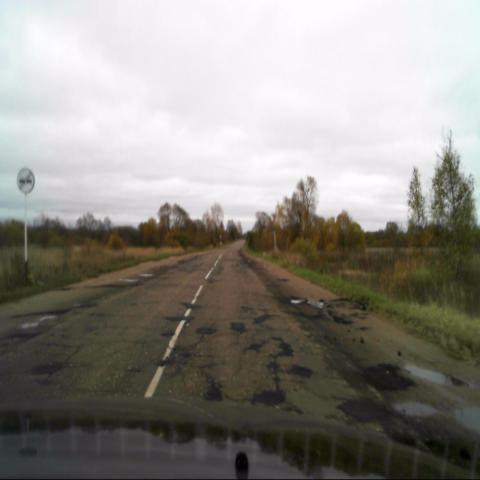3_21: (15, 167, 36, 195)
